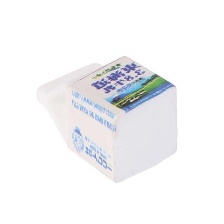carton: (28, 54, 196, 190)
